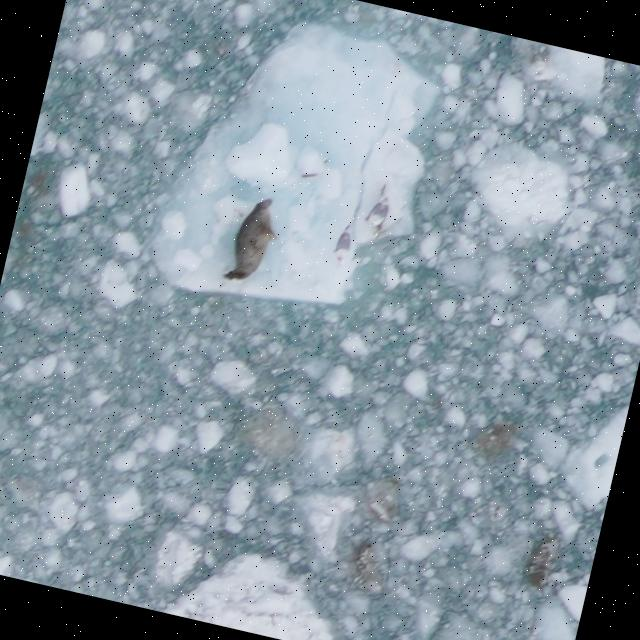seal: (217, 188, 288, 292)
